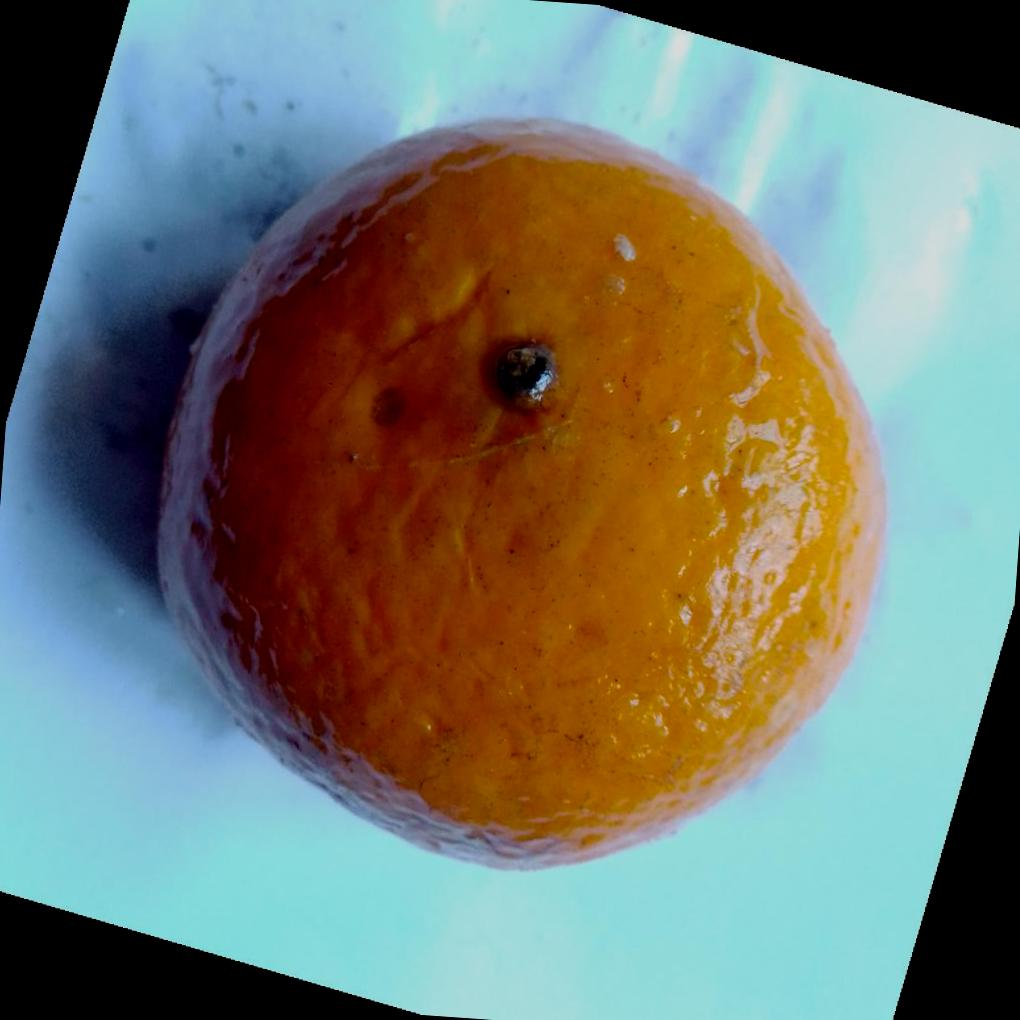FreshOrange: (150, 116, 887, 873)
